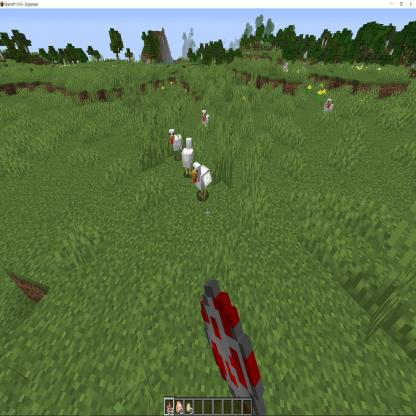minecraft-pigs: (193, 162, 211, 201), (168, 126, 183, 161), (182, 138, 194, 176), (320, 95, 336, 122), (200, 109, 210, 136), (283, 60, 289, 78)
